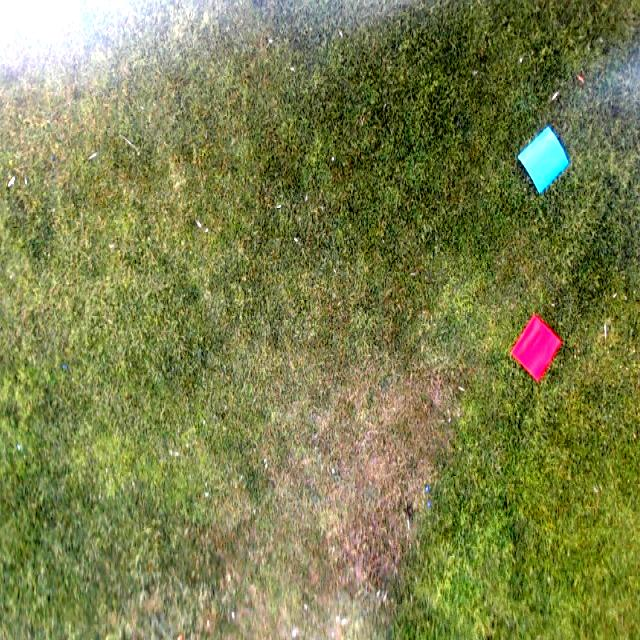blue_square: (516, 125, 572, 194)
red_square: (507, 311, 562, 382)
